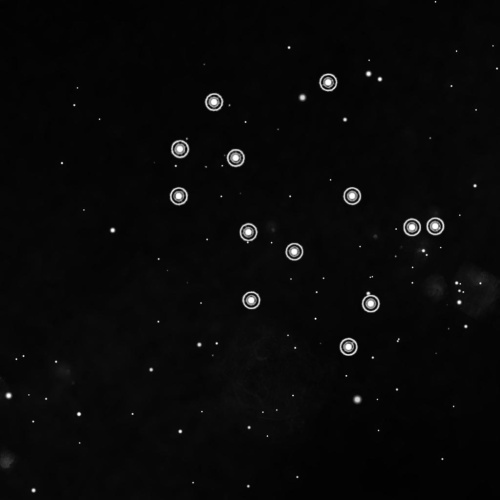gemini: (163, 68, 449, 362)
